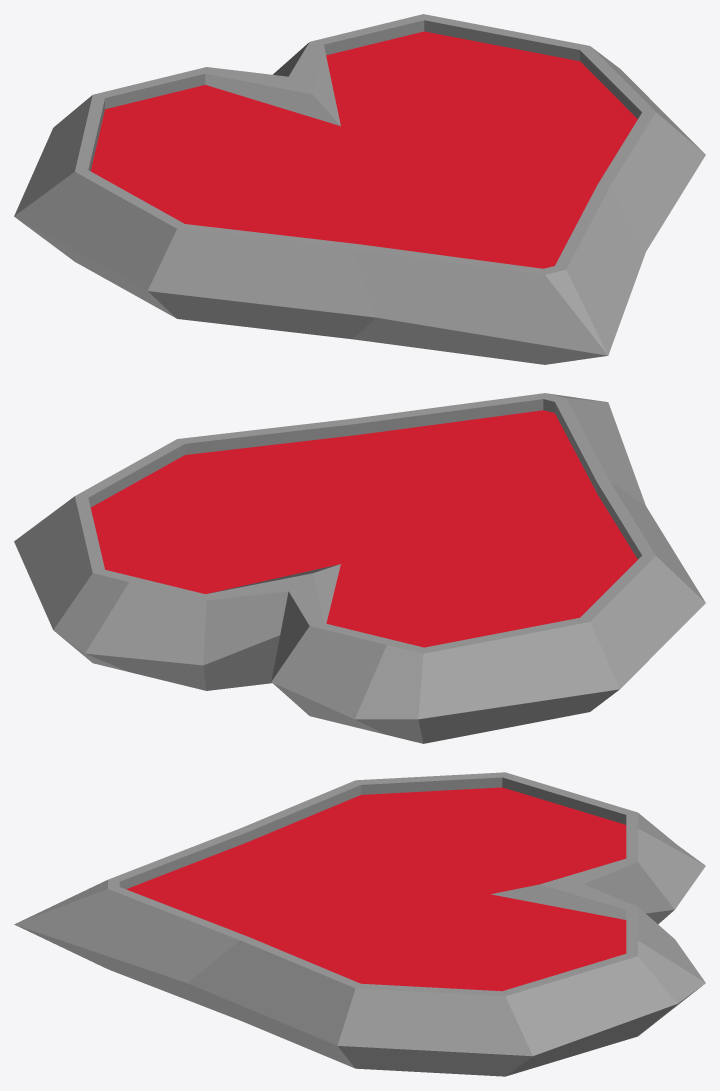
The model's file is heart.fbx.
The picture shows the model from 3 angles, top to bottom: view 1: azimuth 30°, elevation 25°; view 2: azimuth 150°, elevation 25°; view 3: azimuth 270°, elevation 25°; orthographic projection. The views are drawn at different scales.
Visible parts, largest first — view 1: Heart; view 2: Heart; view 3: Heart.
Part boxes in pixels (<box>): Heart: <box>14,14,705,364</box>; Heart: <box>14,393,705,743</box>; Heart: <box>14,772,705,1076</box>.
Size of the model in its own units: 470 by 66.86 by 522.
